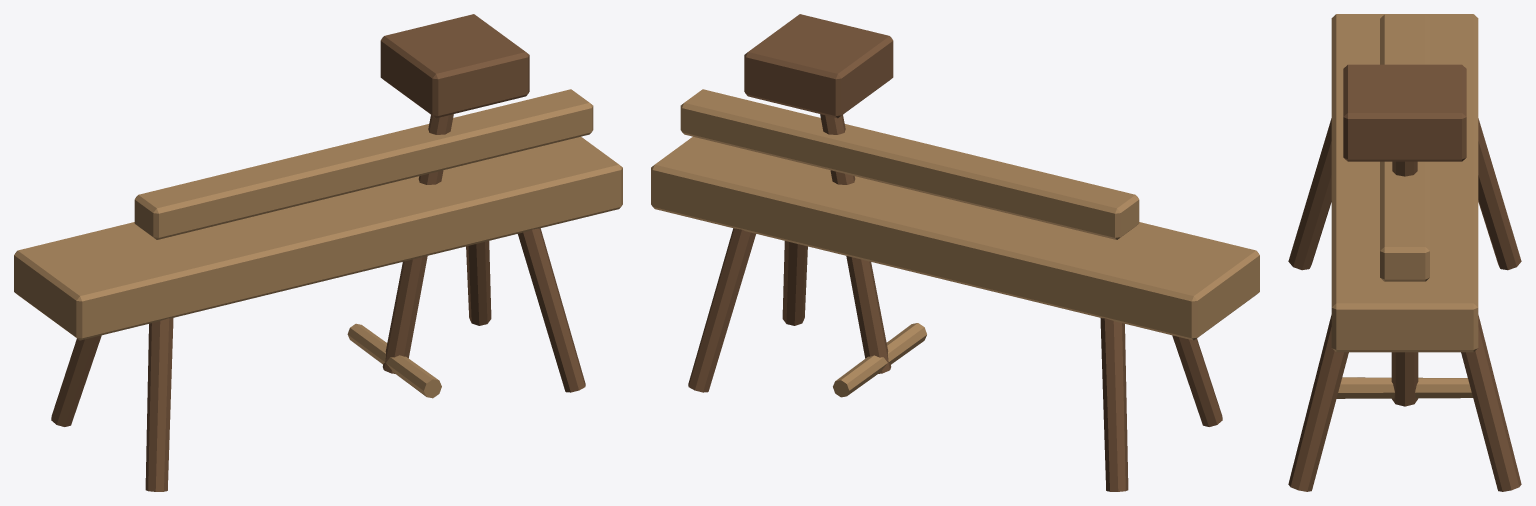
3 views of the same model, side by side, from view 1: azimuth 30°, elevation 25°; view 2: azimuth 150°, elevation 25°; view 3: azimuth 270°, elevation 25° (orthographic). The views are drawn at different scales.
Visible parts, largest first — view 1: WW-033 Foot-lever shaving bench batched; view 2: WW-033 Foot-lever shaving bench batched; view 3: WW-033 Foot-lever shaving bench batched.
Part boxes in pixels (bbox=[...]): WW-033 Foot-lever shaving bench batched: bbox=[14, 14, 622, 491]; WW-033 Foot-lever shaving bench batched: bbox=[651, 14, 1259, 491]; WW-033 Foot-lever shaving bench batched: bbox=[1288, 14, 1521, 491].
Bounding box in the file's own units: 1.8 × 1.04 × 0.6051.
